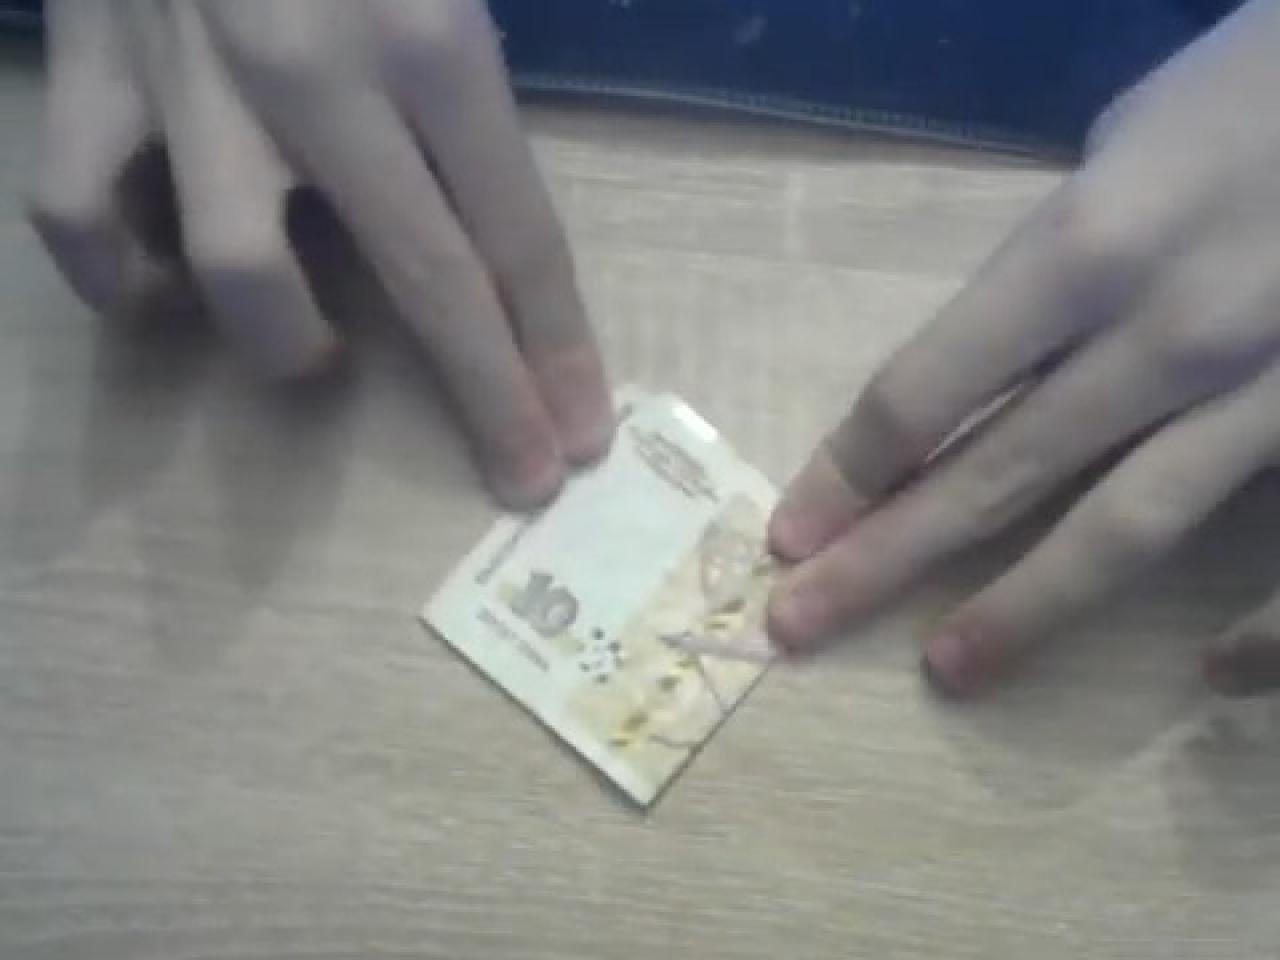10leva: (416, 392, 779, 814)
